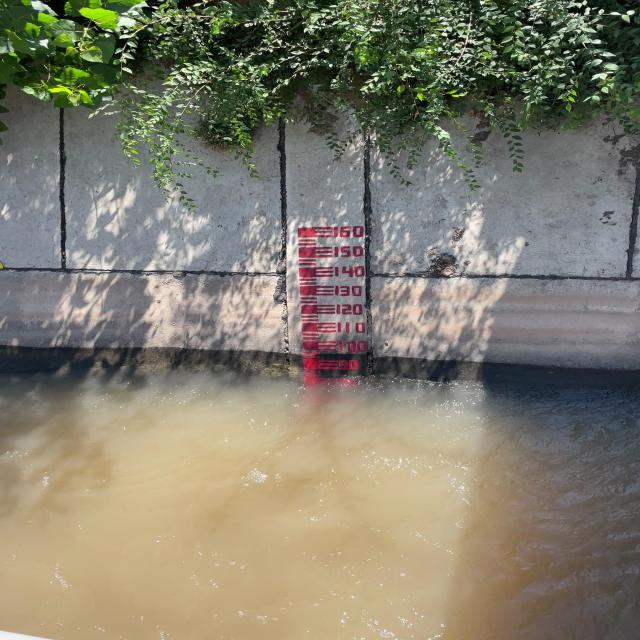ruler: (292, 219, 379, 378)
value: (330, 225, 370, 241), (331, 264, 368, 280), (331, 245, 370, 260), (335, 340, 370, 356), (334, 320, 372, 334), (332, 284, 367, 298), (333, 303, 368, 317), (334, 358, 363, 372)
